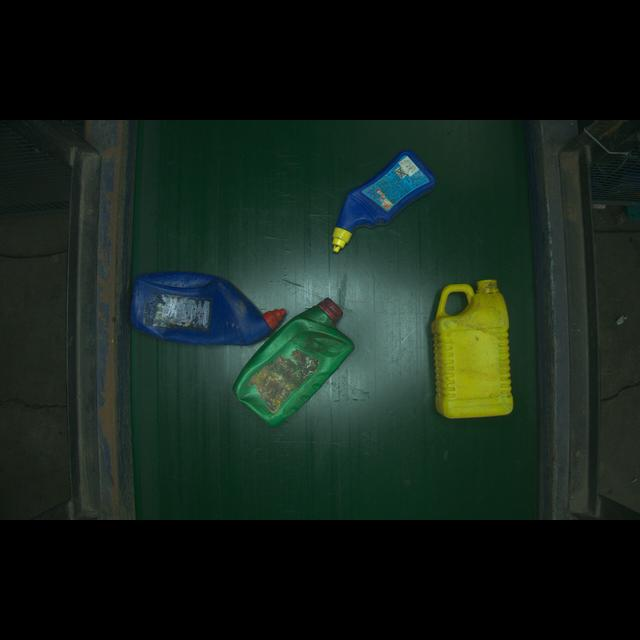mix HD: (120, 258, 294, 350), (241, 284, 353, 425), (420, 272, 520, 425), (320, 152, 441, 258)
